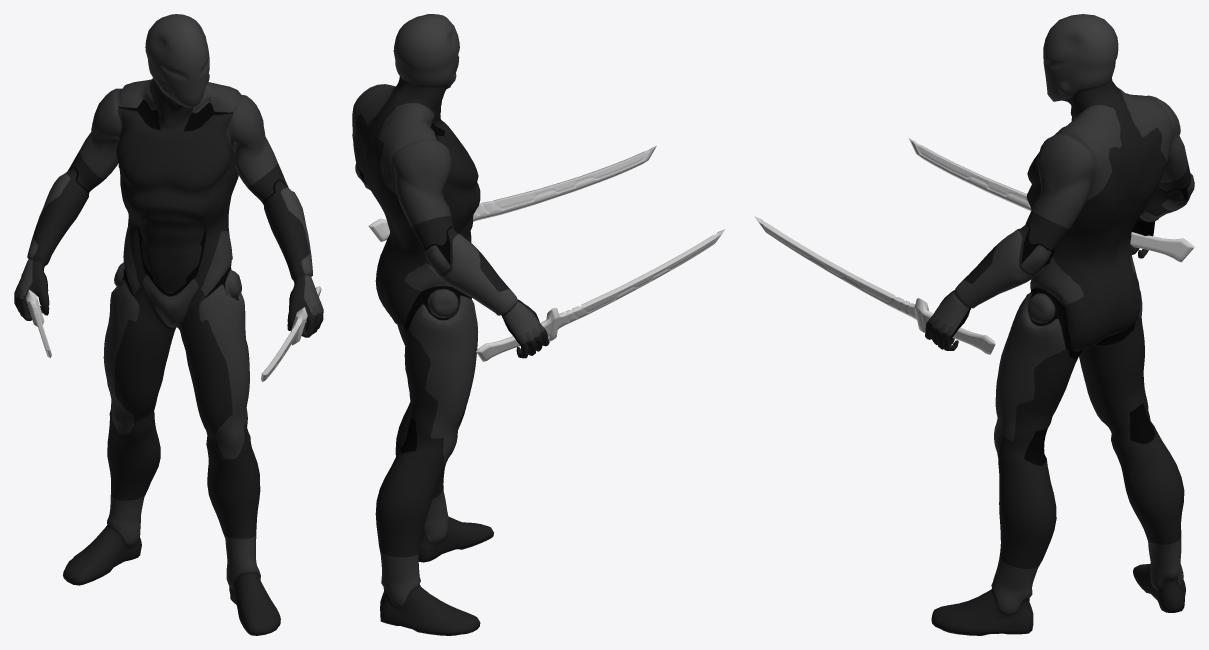
The picture shows the model from 3 angles, left to right: view 1: azimuth 30°, elevation 25°; view 2: azimuth 150°, elevation 25°; view 3: azimuth 270°, elevation 25°; orthographic projection. The views are drawn at different scales.
Parts seen in each view (by area): view 1: Cyborg_Ninja_Killer, Sword_l, Sword_l001; view 2: Cyborg_Ninja_Killer, Sword_l, Sword_l001; view 3: Cyborg_Ninja_Killer, Sword_l, Sword_l001.
Part boxes in pixels (x1,y1,x2,y2): Cyborg_Ninja_Killer: (14, 14, 323, 635); Sword_l: (261, 286, 321, 381); Sword_l001: (21, 273, 51, 358); Cyborg_Ninja_Killer: (352, 14, 549, 635); Sword_l: (368, 145, 656, 241); Sword_l001: (476, 229, 725, 361); Cyborg_Ninja_Killer: (925, 14, 1194, 635); Sword_l: (754, 216, 995, 354); Sword_l001: (909, 138, 1194, 262).
Bounding box in the file's own units: 105 × 182 × 122.
